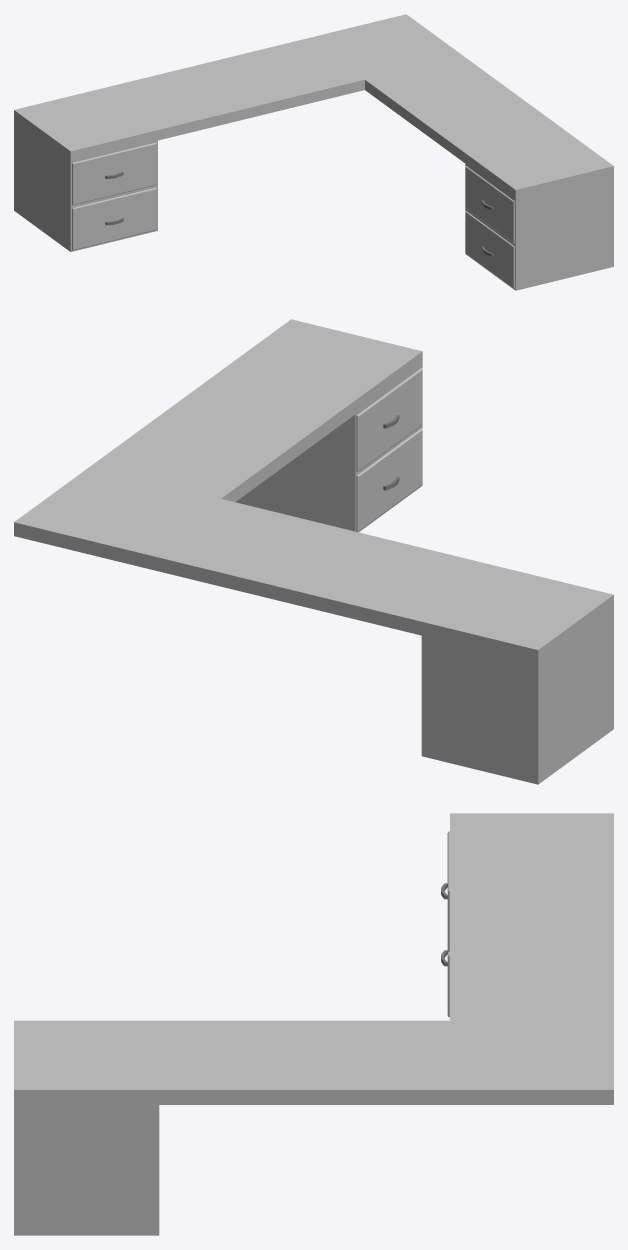
Rendered from Wardrobe_24.fbx.
The picture shows the model from 3 angles, top to bottom: view 1: azimuth 30°, elevation 25°; view 2: azimuth 150°, elevation 25°; view 3: azimuth 270°, elevation 25°; orthographic projection. The views are drawn at different scales.
Parts seen in each view (by area): view 1: Wardrobe_24, Wardrobe_24 Door_4, Wardrobe_24 Door_3, Wardrobe_24 Door_1, Wardrobe_24 Door_2; view 2: Wardrobe_24, Wardrobe_24 Door_1, Wardrobe_24 Door_2; view 3: Wardrobe_24.
Boxes of the visible parts, x1,y1,x2,y2 form: Wardrobe_24: (14, 14, 613, 290); Wardrobe_24 Door_4: (72, 187, 156, 250); Wardrobe_24 Door_3: (72, 142, 156, 205); Wardrobe_24 Door_1: (465, 166, 514, 243); Wardrobe_24 Door_2: (465, 211, 514, 288); Wardrobe_24: (14, 319, 613, 784); Wardrobe_24 Door_1: (356, 368, 422, 471); Wardrobe_24 Door_2: (356, 428, 422, 531); Wardrobe_24: (14, 813, 613, 1235).
Size of the model in its own units: 2.41 by 0.5915 by 2.21.
